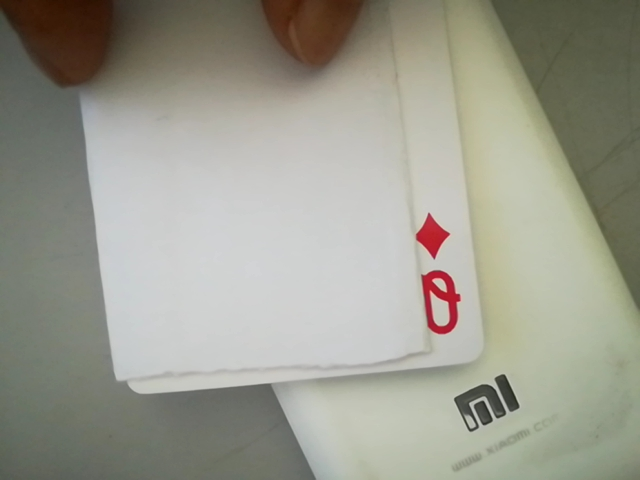fk q: (406, 207, 471, 344)
